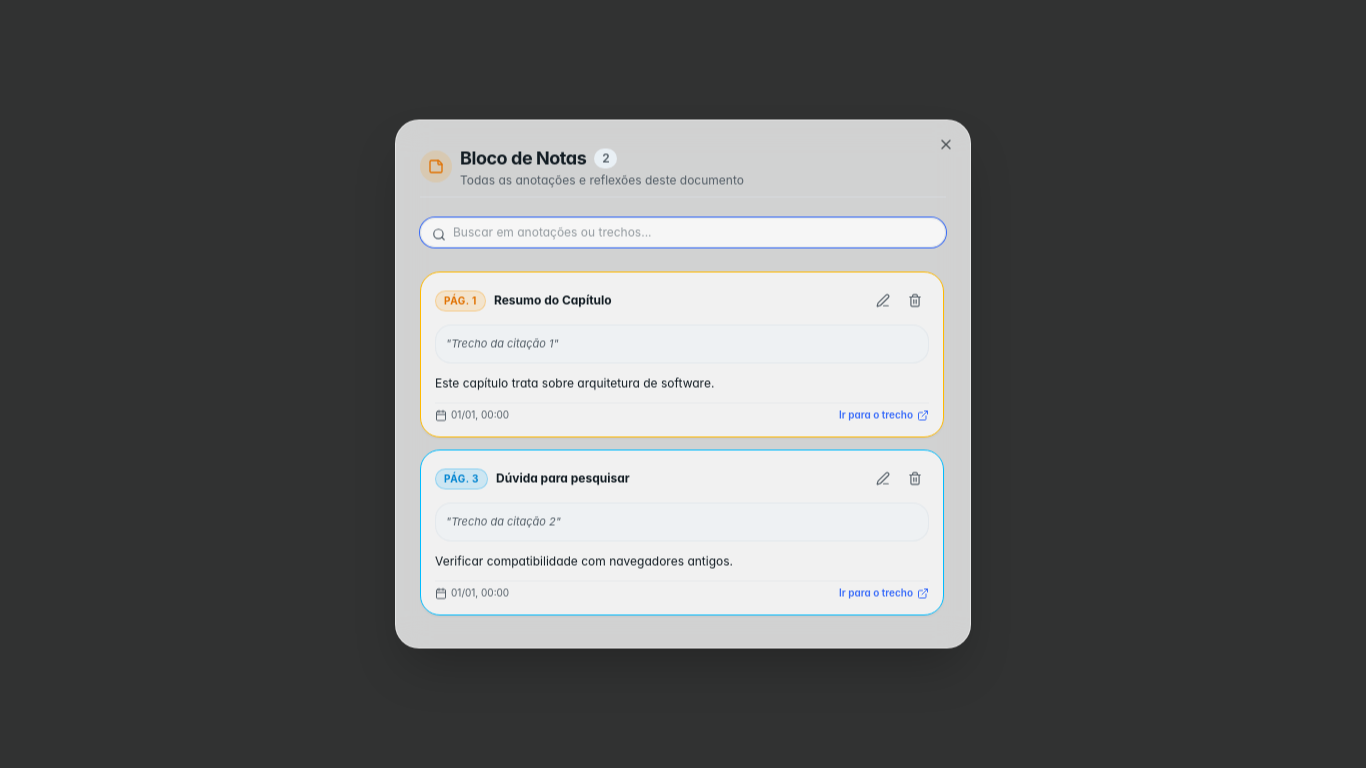
Test: NotesDrawer › deve filtrar notas pelo campo de busca
The image size is (1366, 768).
Type "arquitetura" into the field with placeholder "Buscar em anotações ou trechos...".
click(683, 232); type("arquitetura")  # box [420,218,946,248]
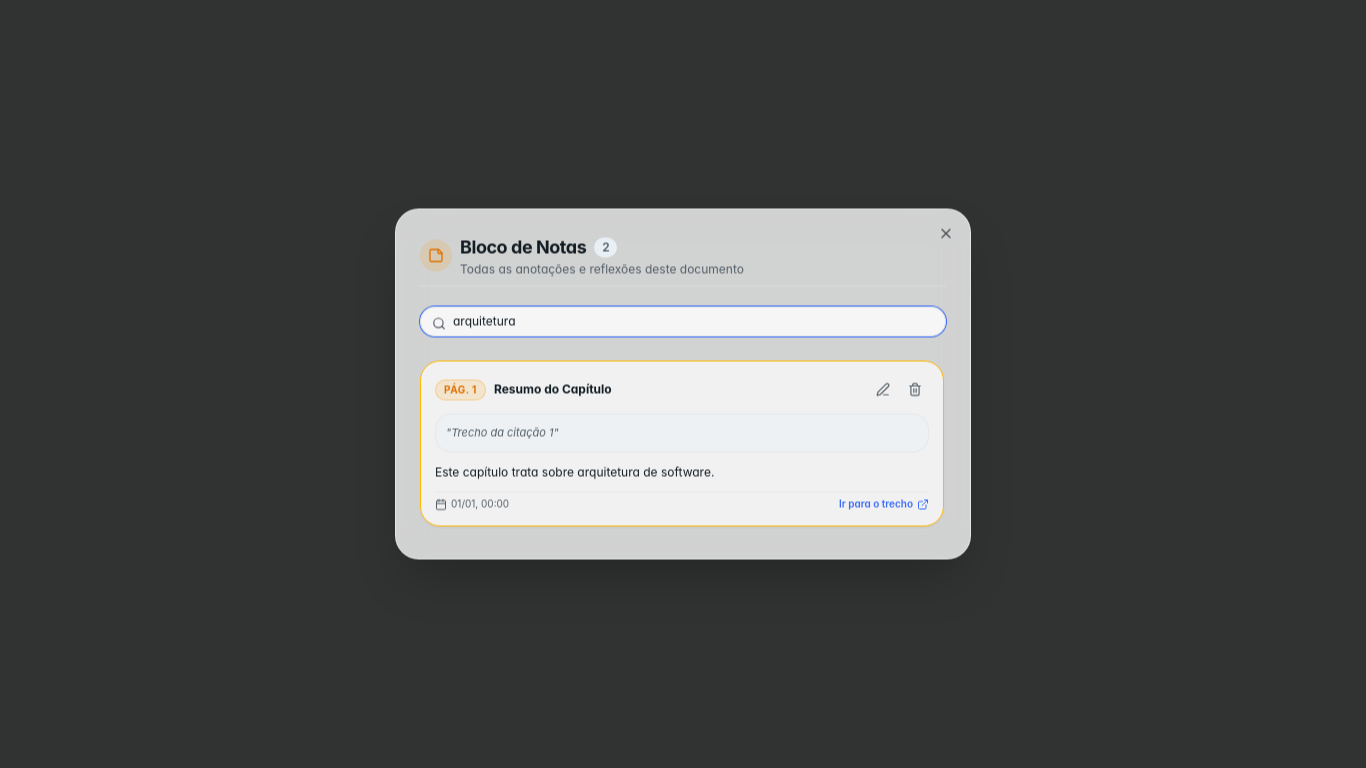
Expected: the heading "Resumo do Capítulo" is shown, [494,382,612,398]
Now the heading "Dúvida para pesquisar" is gone
